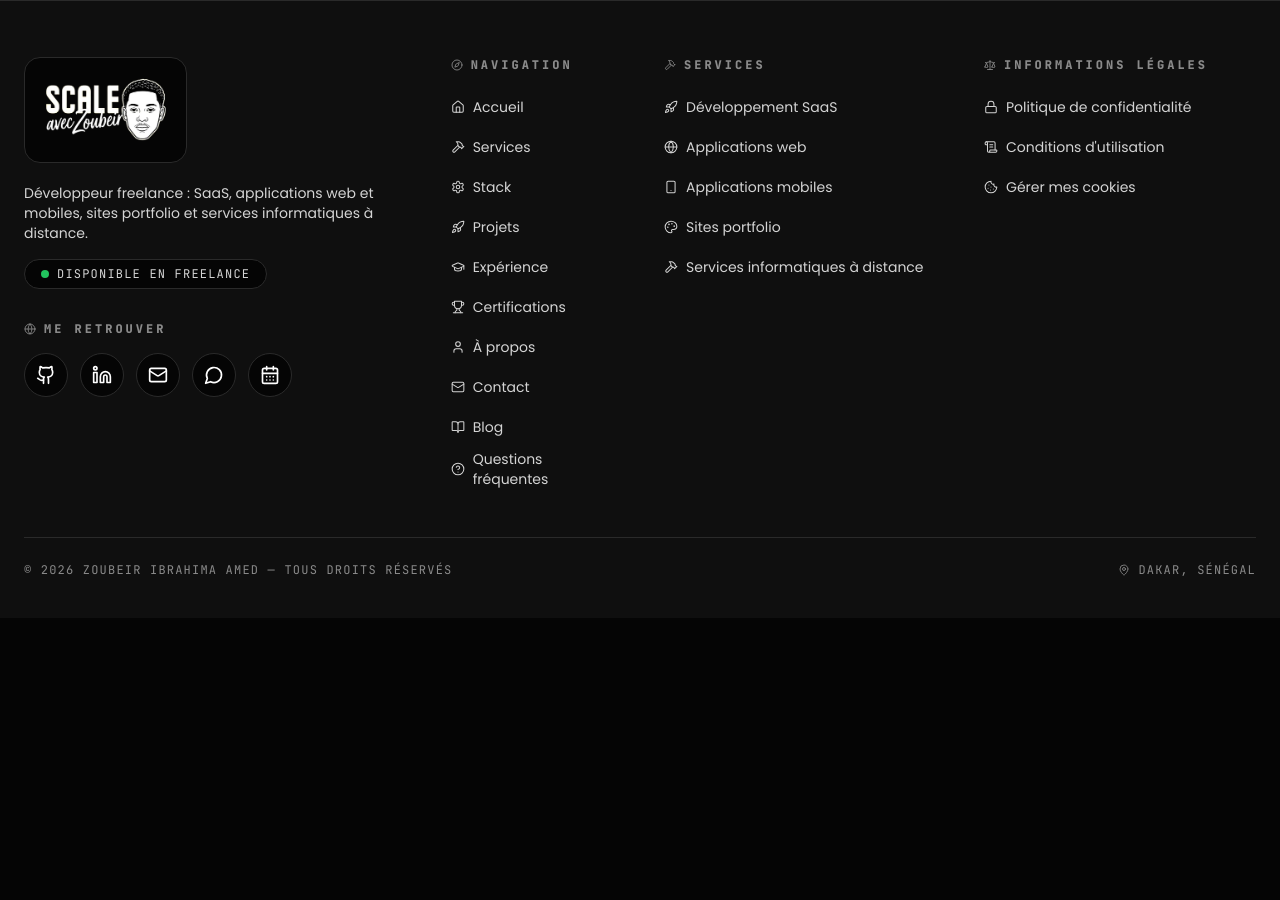
Test: SiteFooter › reopens the cookie preferences from the footer
This screenshot has width=1280, height=900.
Click the button "Gérer mes cookies".
click(1060, 187)  # box [984, 169, 1136, 205]
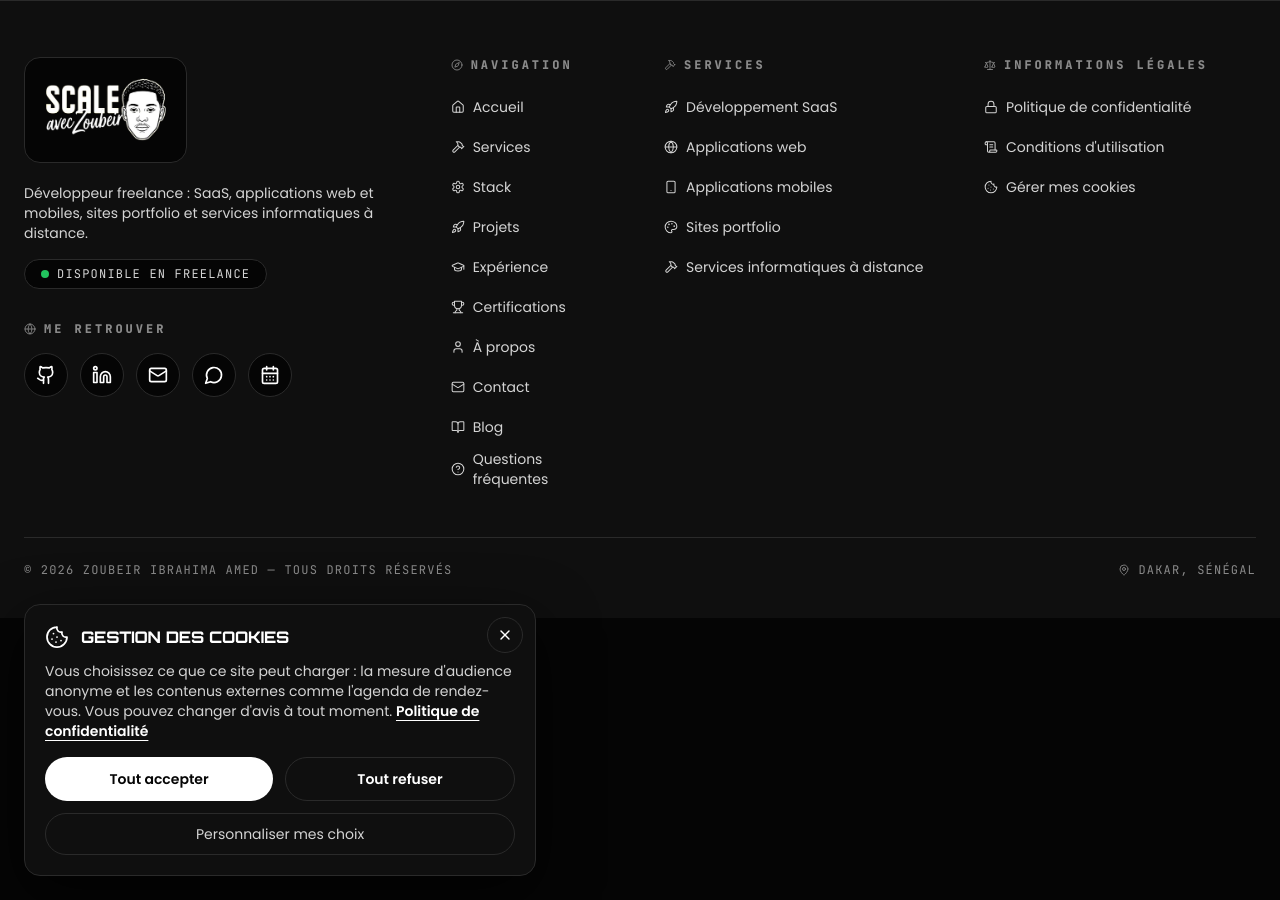
Now the dialog is shown, box [24, 604, 536, 876]
